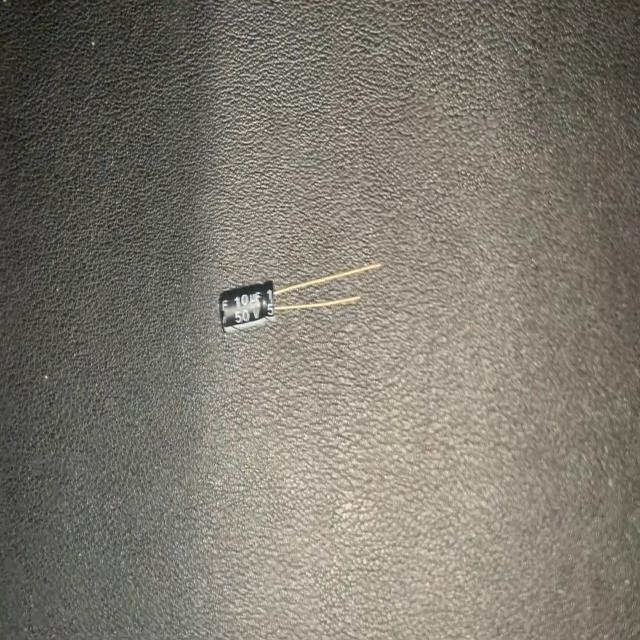capacitor: (220, 264, 380, 336)
